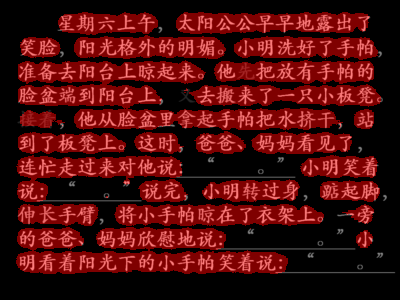text: (17, 37, 394, 276), (54, 15, 369, 32)
